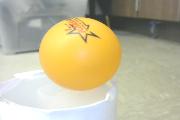PingPongBall: (41, 17, 121, 90)
